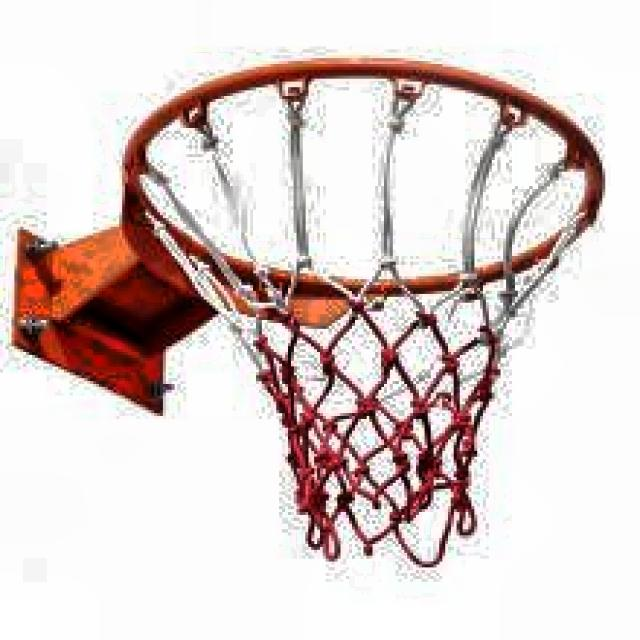rim: (118, 54, 609, 566)
